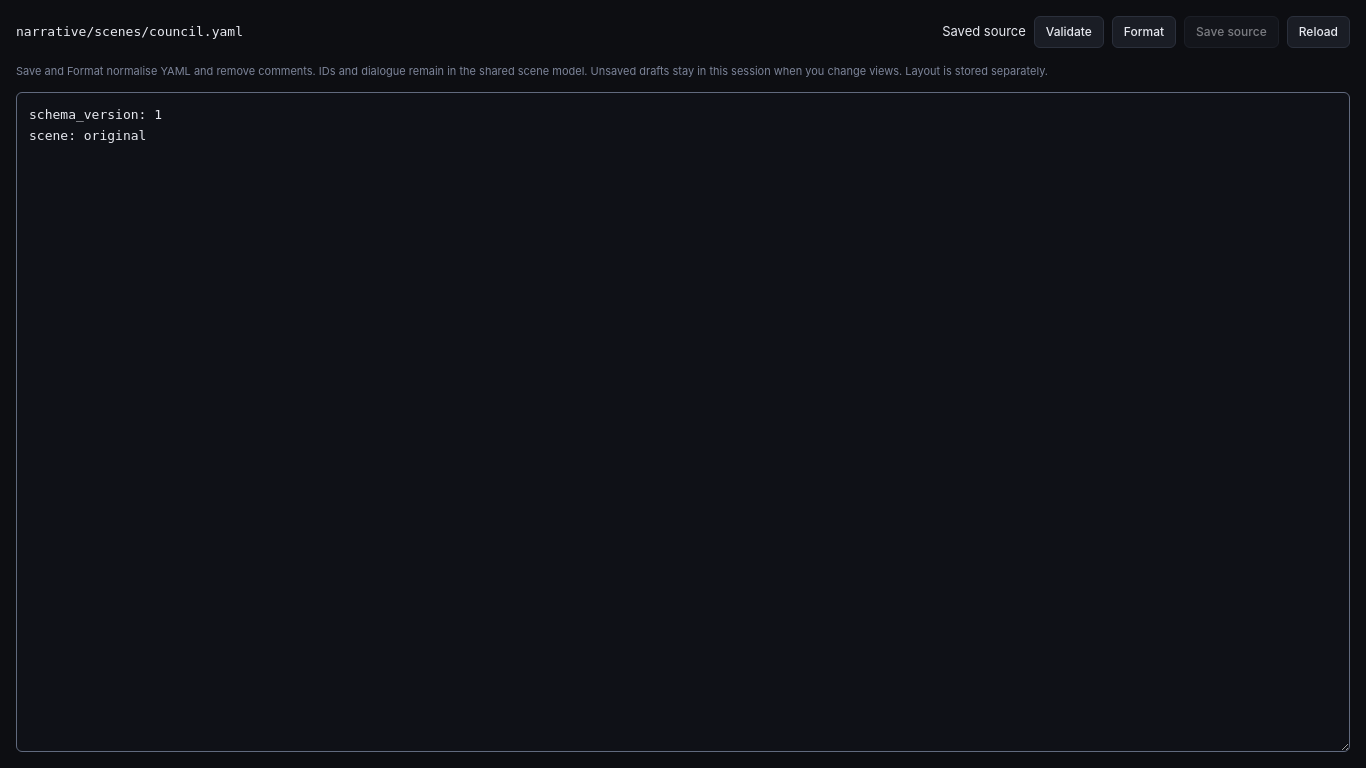
Test: requires explicit draft discard before reload and preserves edits after a conflict
Replace the text in the text box with "draft". click: (683, 422)
box: [16,92,1350,752]
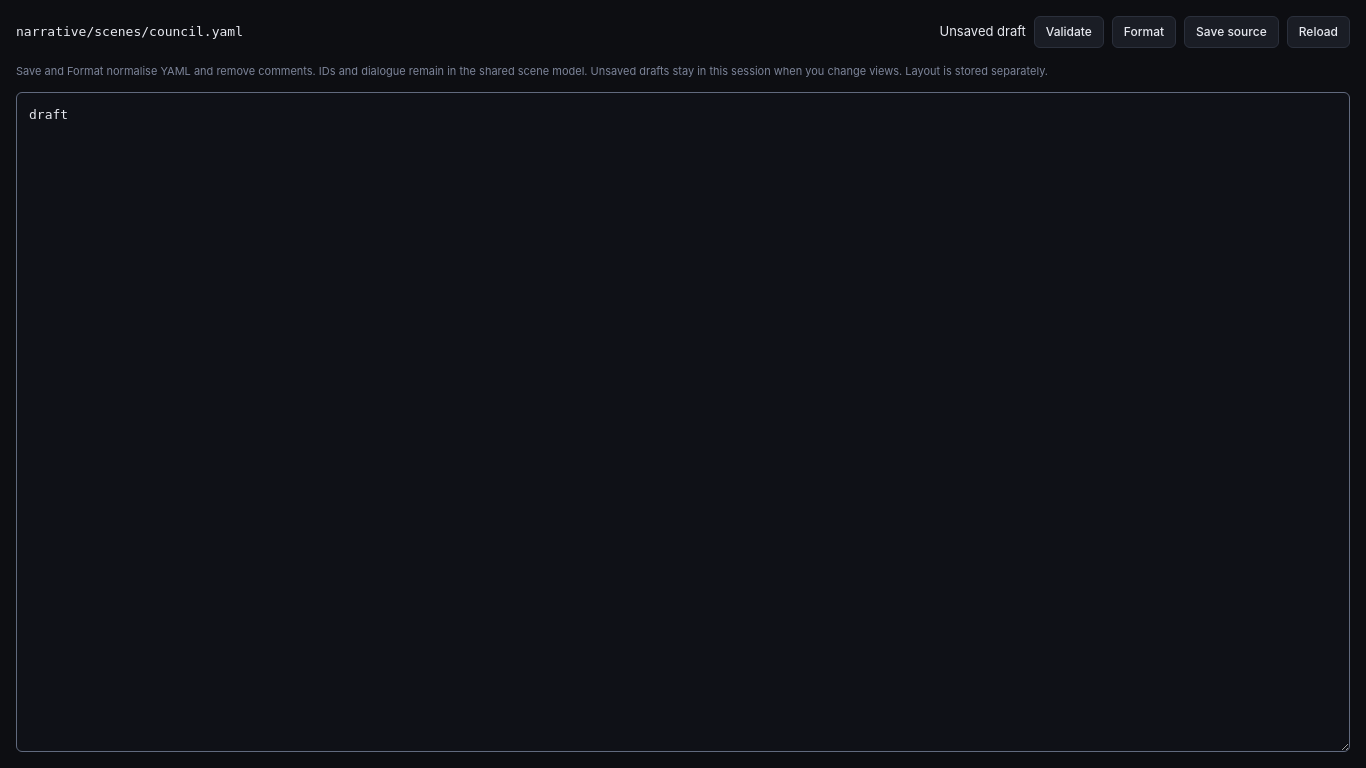
Click the button "Save source". click: (1231, 32)
box: [1184,16,1279,48]
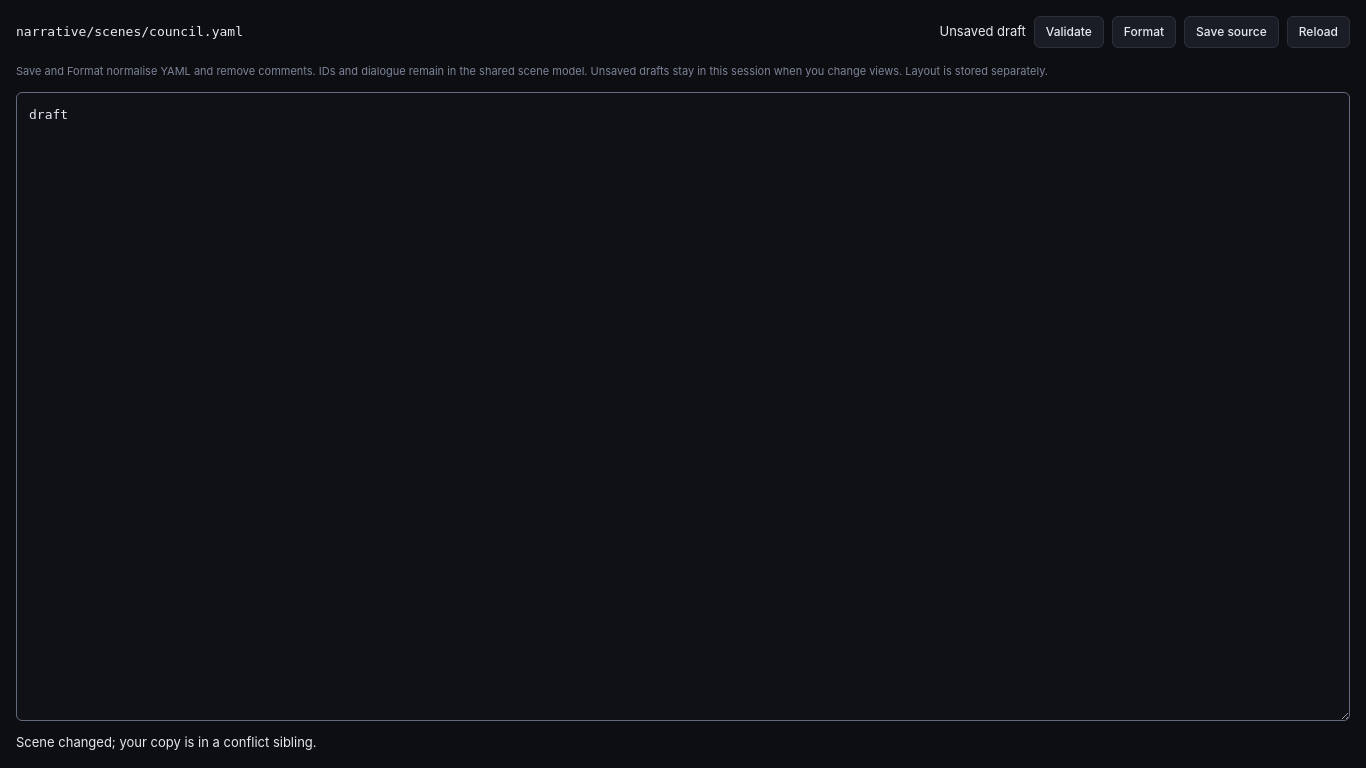
Check: the message shows "conflict sibling", box [16,734,316,750]
Click the button "Reload". click: (1318, 32)
box: [1287,16,1350,48]
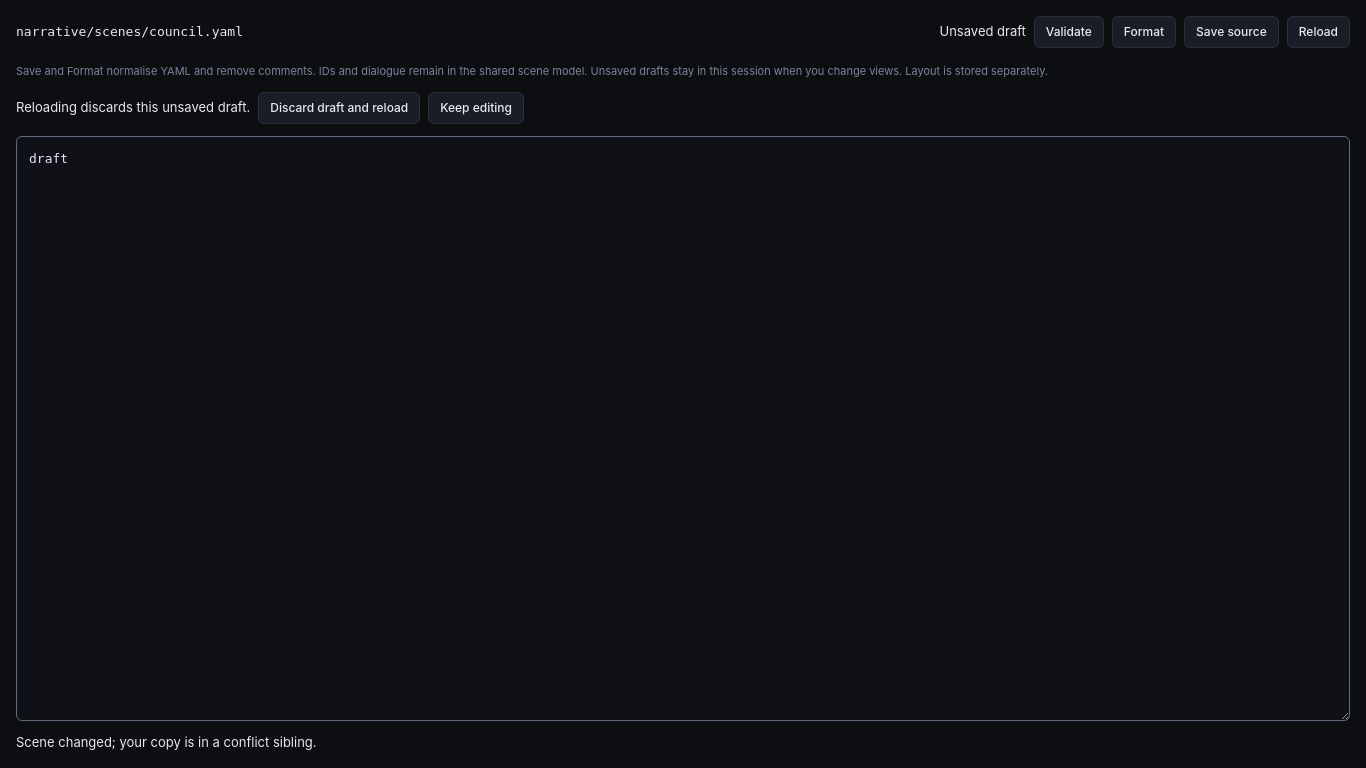
Click the button "Discard draft and reload". click: (339, 108)
box: [258,92,420,124]
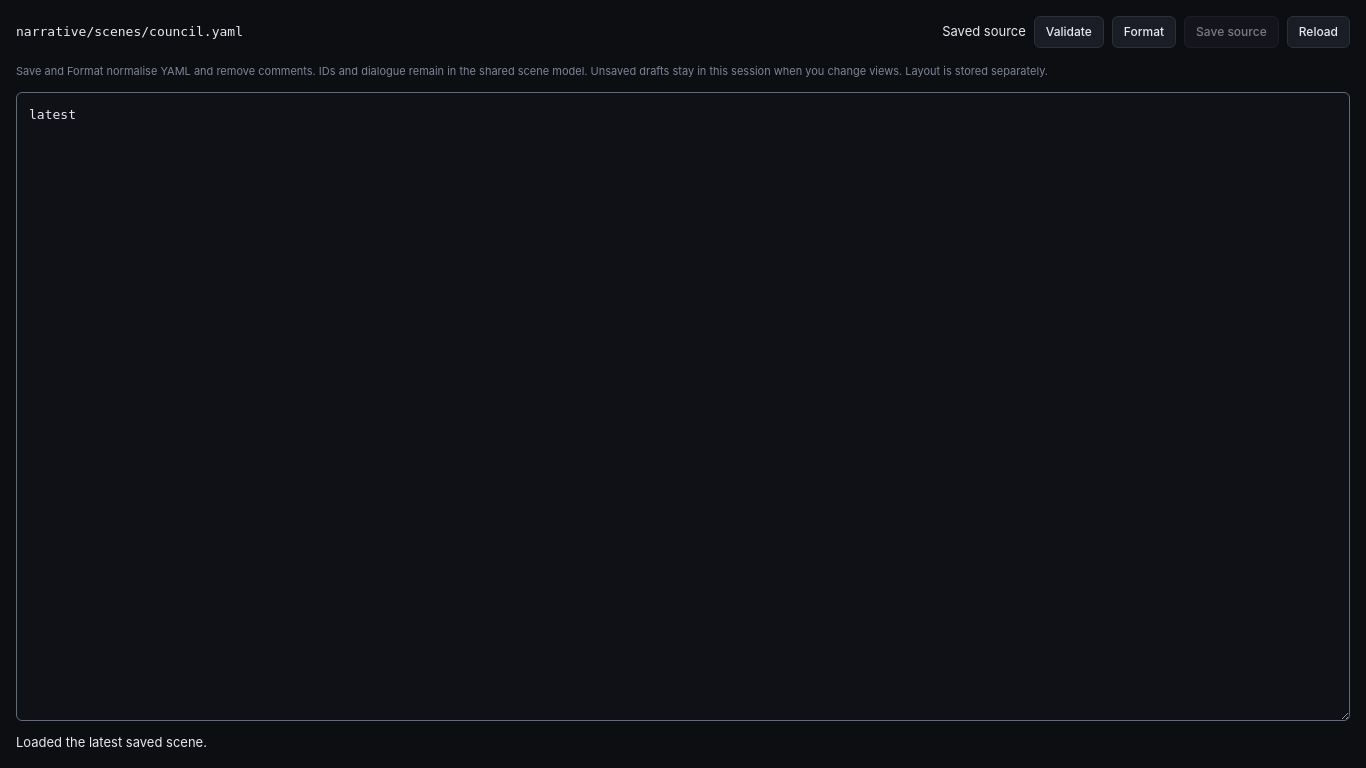
Check: the text box holds "latest"
